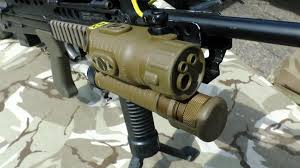gun: (0, 1, 299, 162)
